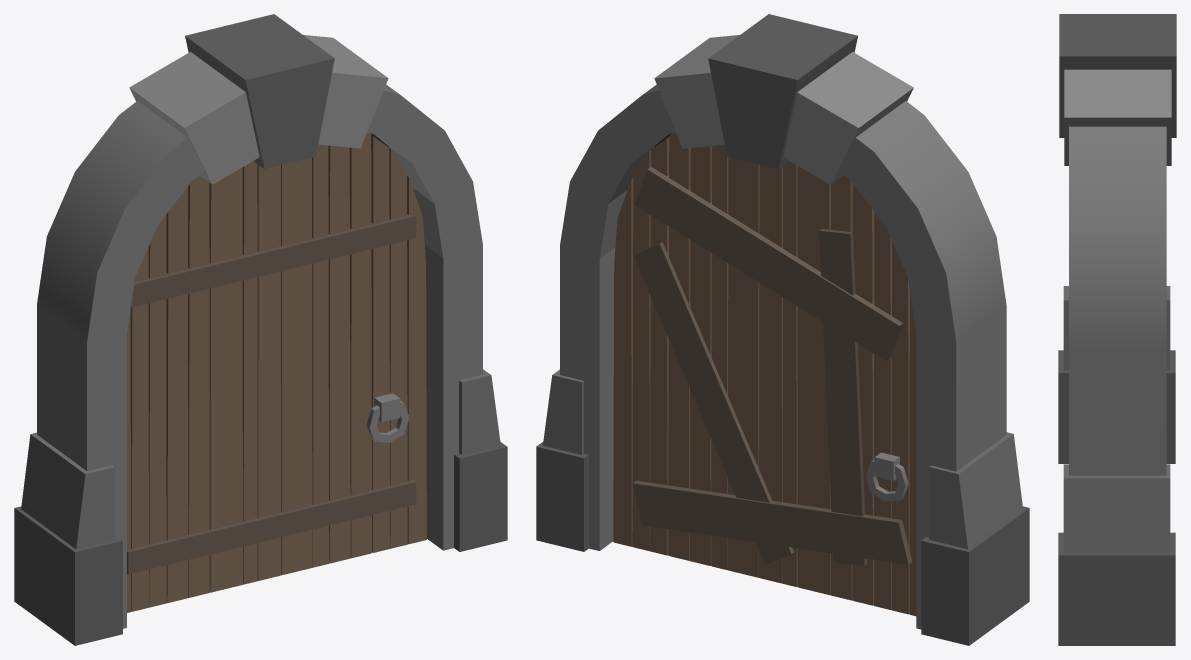
Rendered from Castle_Part_026.fbx.
3 views of the same model, side by side, from view 1: azimuth 30°, elevation 25°; view 2: azimuth 150°, elevation 25°; view 3: azimuth 270°, elevation 25° (orthographic). The views are drawn at different scales.
Parts seen in each view (by area): view 1: Castle_Part_026; view 2: Castle_Part_026; view 3: Castle_Part_026.
Boxes of the visible parts, x1=… form: Castle_Part_026: x1=14, y1=14, x2=507, y2=645; Castle_Part_026: x1=536, y1=14, x2=1029, y2=645; Castle_Part_026: x1=1058, y1=14, x2=1176, y2=645.
Bounding box in the file's own units: 61.89 × 71.65 × 15.12.
